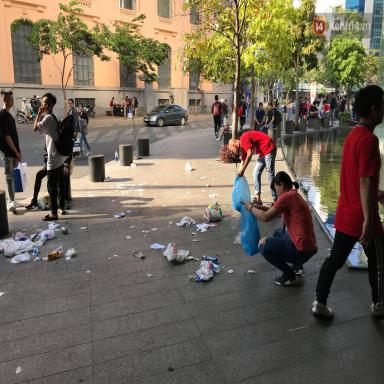plasticbag: (238, 198, 266, 258), (163, 242, 198, 270), (231, 169, 252, 212), (0, 236, 33, 262), (193, 252, 218, 285), (176, 212, 197, 226), (183, 157, 196, 175)
